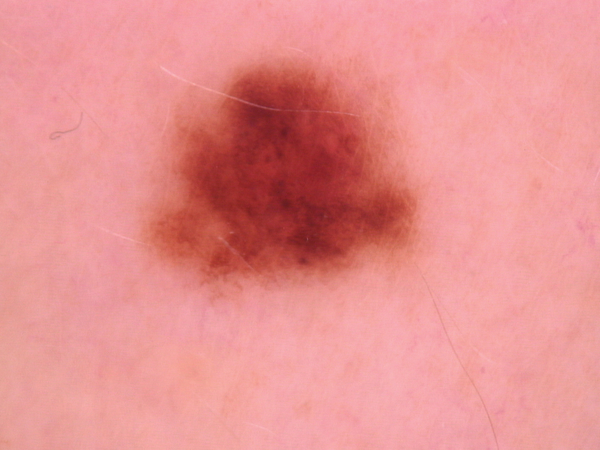Detected Lesion: (145, 54, 431, 299)
